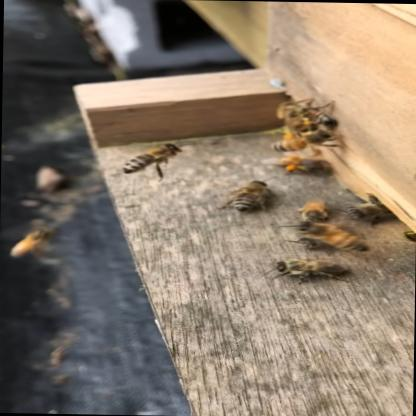bee: (288, 188, 416, 256), (266, 93, 364, 173), (80, 129, 209, 184), (235, 250, 366, 294), (0, 213, 82, 266), (218, 168, 296, 214)
